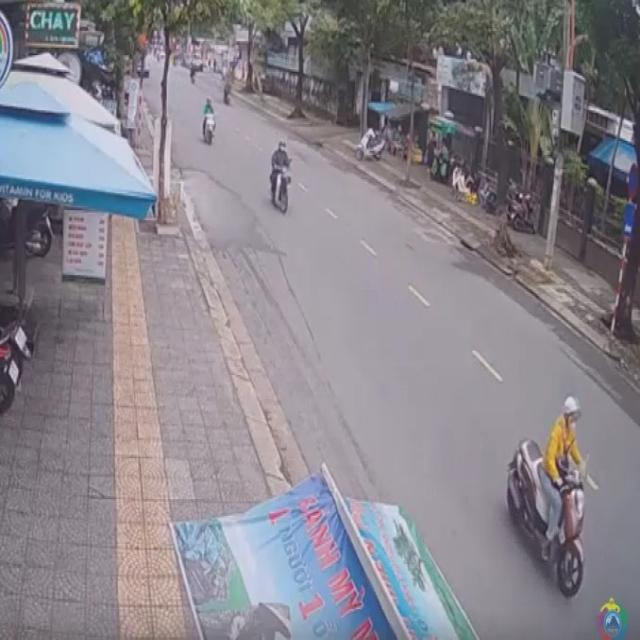motorbike: (508, 400, 591, 600), (269, 140, 291, 211)
